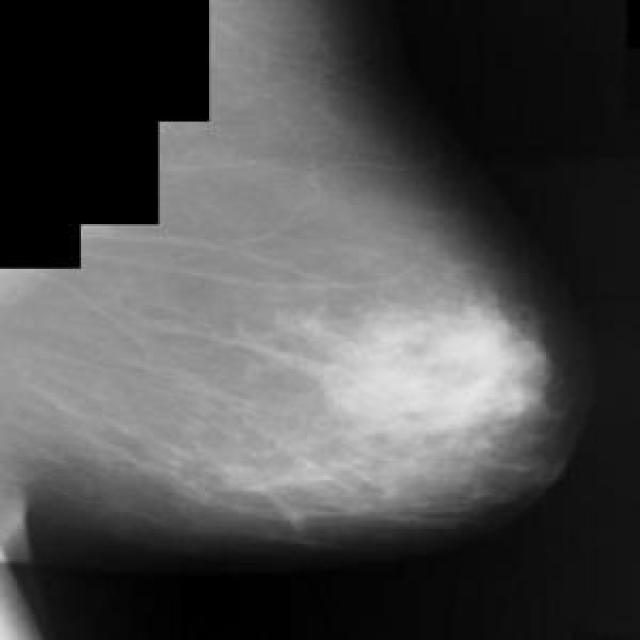tumor: (329, 294, 558, 459)
